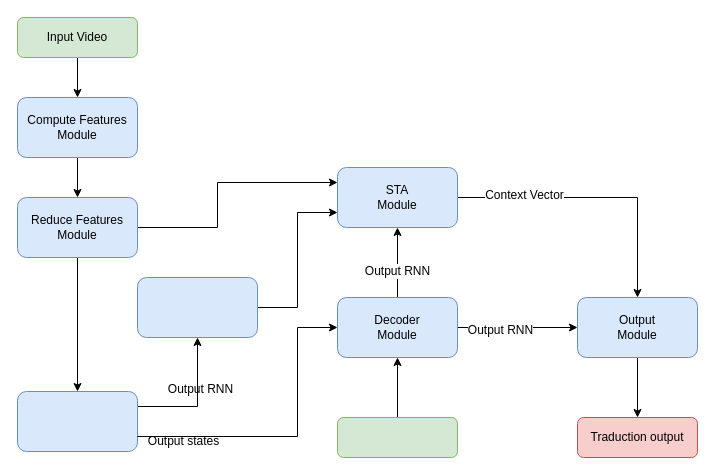
The diagram is 715 pixels wide and 475 high, and some of its shapes have lost their labels. Here are the shapes that lost their labels. From the top down, the centre of each, then its label:
pixel 197 307: Self Attention Module
pixel 77 421: Encoder Module
pixel 397 437: Input Words
